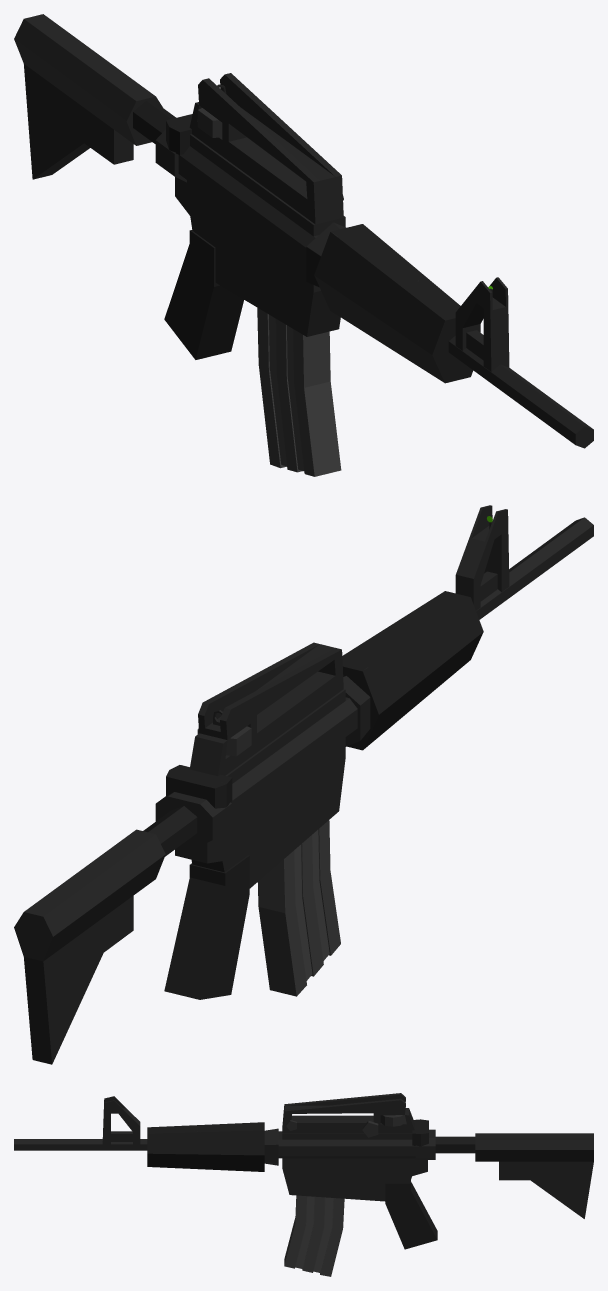
3 renders of one model, top to bottom at view 1: azimuth 30°, elevation 25°; view 2: azimuth 150°, elevation 25°; view 3: azimuth 270°, elevation 25°, orthographic. The views are drawn at different scales.
Visible parts, largest first — view 1: M4A1_main, M4A1_magazine; view 2: M4A1_main, M4A1_magazine; view 3: M4A1_main, M4A1_magazine.
Boxes of the visible parts, x1,y1,x2,y2 form: M4A1_main: (14, 14, 593, 448); M4A1_magazine: (257, 308, 341, 476); M4A1_main: (14, 505, 593, 1064); M4A1_magazine: (257, 820, 340, 996); M4A1_main: (14, 1093, 593, 1249); M4A1_magazine: (284, 1195, 344, 1276).
Bounding box in the file's own units: 0.0603 × 0.2988 × 0.8883.
